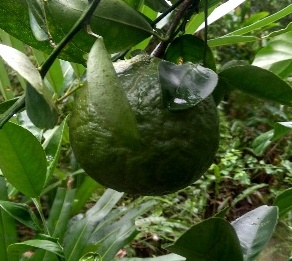Cam: (67, 53, 223, 198)
